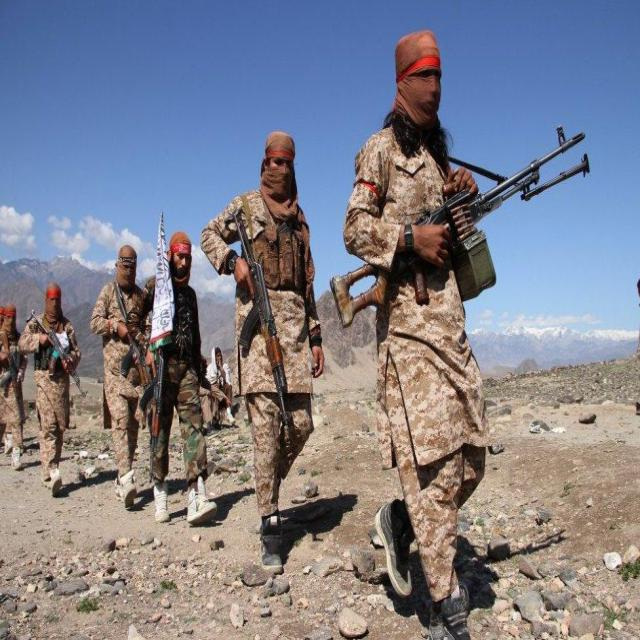Forest: (0, 0, 640, 640)
Militant: (334, 17, 526, 631), (199, 108, 337, 596), (80, 222, 166, 512), (140, 228, 217, 541), (28, 267, 81, 503), (0, 284, 26, 479)
